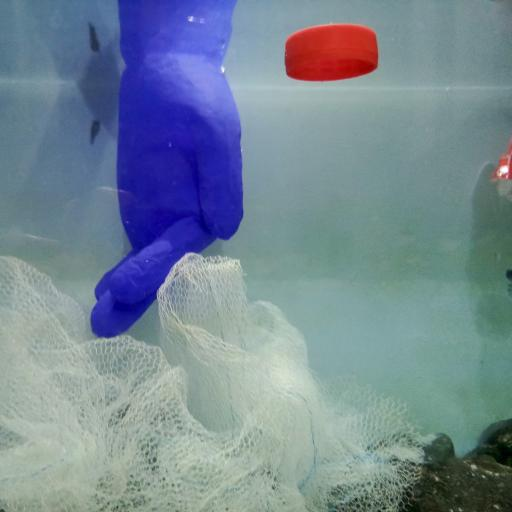bottle_cap: (284, 24, 378, 81)
glove: (90, 50, 244, 338)
net: (0, 251, 421, 512)
